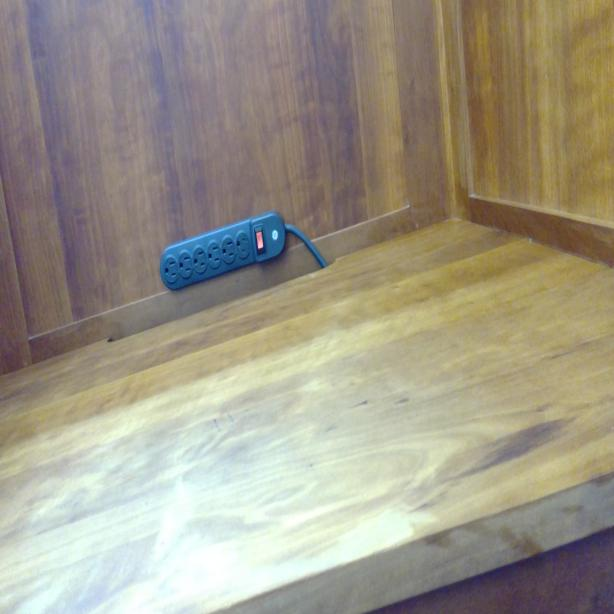typeb: (161, 255, 178, 282), (235, 230, 250, 259), (178, 249, 194, 275), (221, 238, 236, 264), (192, 248, 207, 272), (206, 242, 220, 266)
